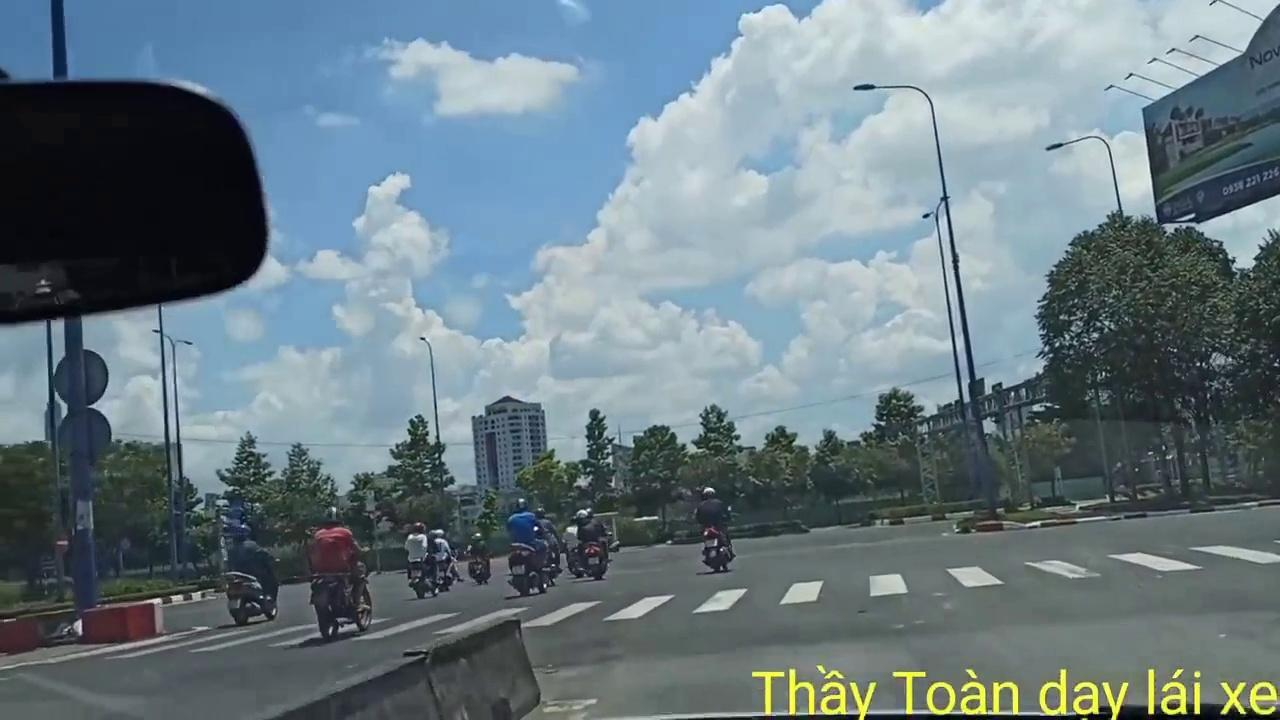Cấm đi ngược chiều: (52, 531, 73, 553)
